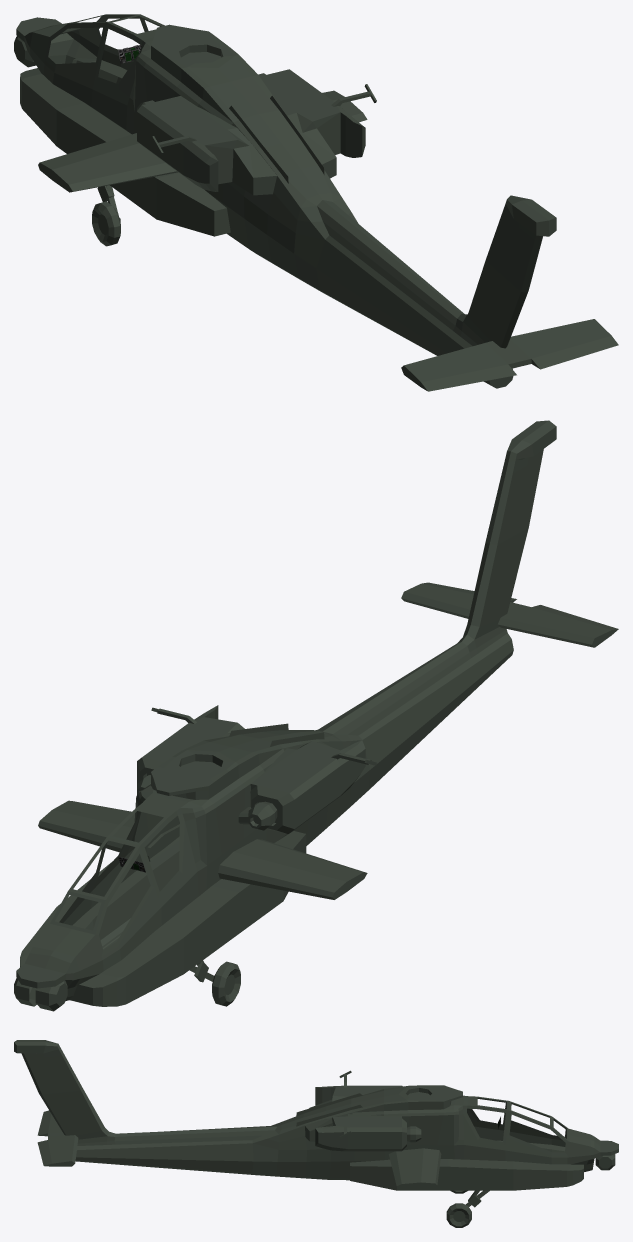
File: ah-64-apache-cockpit.glb
3 views of the same model, one above another, from view 1: azimuth 30°, elevation 25°; view 2: azimuth 150°, elevation 25°; view 3: azimuth 270°, elevation 25° (orthographic). The views are drawn at different scales.
Visible parts, largest first — view 1: apache_body; view 2: apache_body; view 3: apache_body.
Part boxes in pixels (bbox=[...]): apache_body: bbox=[14, 14, 618, 391]; apache_body: bbox=[14, 420, 618, 1011]; apache_body: bbox=[14, 1040, 618, 1227].
Size of the model in its own units: 5.95 by 5.57 by 18.18.
Materials: 2 (1 with a texture image).
